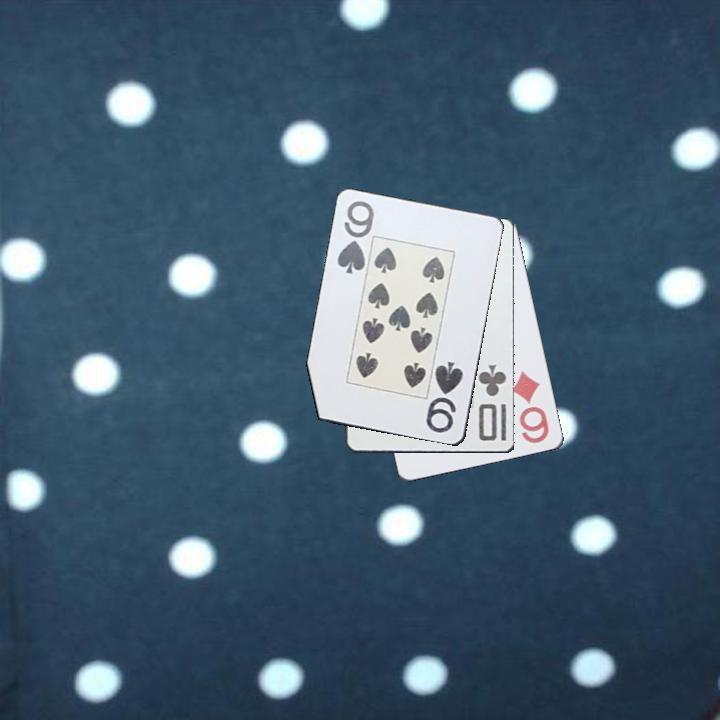6d: (509, 367, 552, 447)
9s: (334, 197, 377, 277), (424, 358, 466, 436)
Tc: (475, 361, 509, 444)
